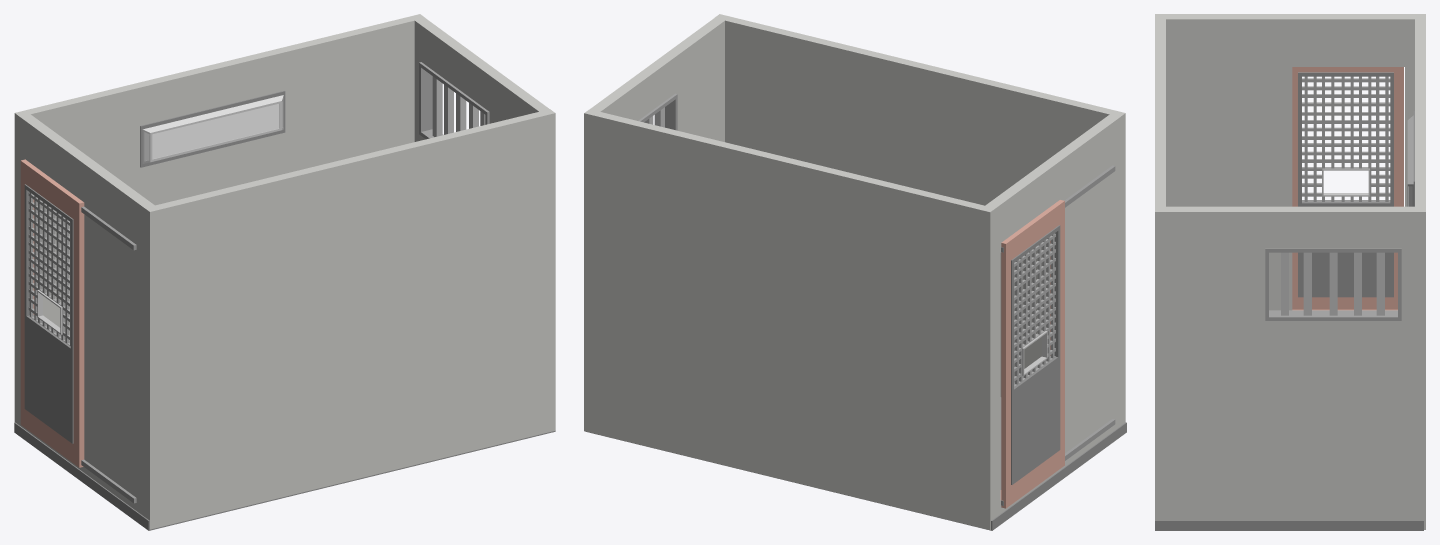
The model's file is chamber.fbx.
3 renders of one model, left to right at view 1: azimuth 30°, elevation 25°; view 2: azimuth 150°, elevation 25°; view 3: azimuth 270°, elevation 25°, orthographic.
Parts seen in each view (by area): view 1: Boole; view 2: Boole; view 3: Boole.
Part boxes in pixels (left/top/right/bottom): Boole: left=14, top=14, right=555, bottom=530; Boole: left=584, top=14, right=1126, bottom=530; Boole: left=1155, top=14, right=1425, bottom=530.
Size of the model in its own units: 364 by 268 by 207.
